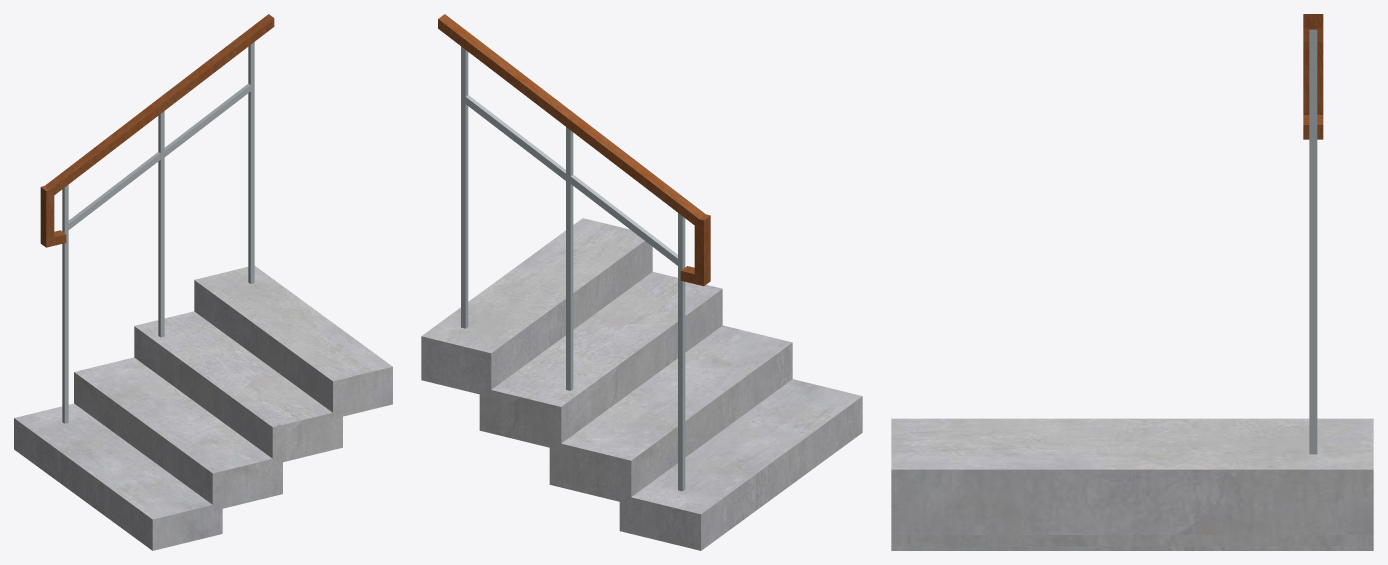
The model's file is stair-start-straight.glb.
The picture shows the model from 3 angles, left to right: view 1: azimuth 30°, elevation 25°; view 2: azimuth 150°, elevation 25°; view 3: azimuth 270°, elevation 25°; orthographic projection. The views are drawn at different scales.
Visible parts, largest first — view 1: 直边踏步, 下折回接扶手; view 2: 直边踏步, 下折回接扶手; view 3: 直边踏步, 下折回接扶手.
Boxes of the visible parts, left/top/right/bottom form: 直边踏步: left=14, top=266, right=392, bottom=550; 下折回接扶手: left=40, top=14, right=274, bottom=423; 直边踏步: left=421, top=218, right=862, bottom=550; 下折回接扶手: left=438, top=14, right=710, bottom=491; 直边踏步: left=891, top=418, right=1373, bottom=550; 下折回接扶手: left=1303, top=14, right=1323, bottom=454.
Size of the model in its own units: 1.2 by 1.85 by 1.2.
4 materials, 2 textured.
